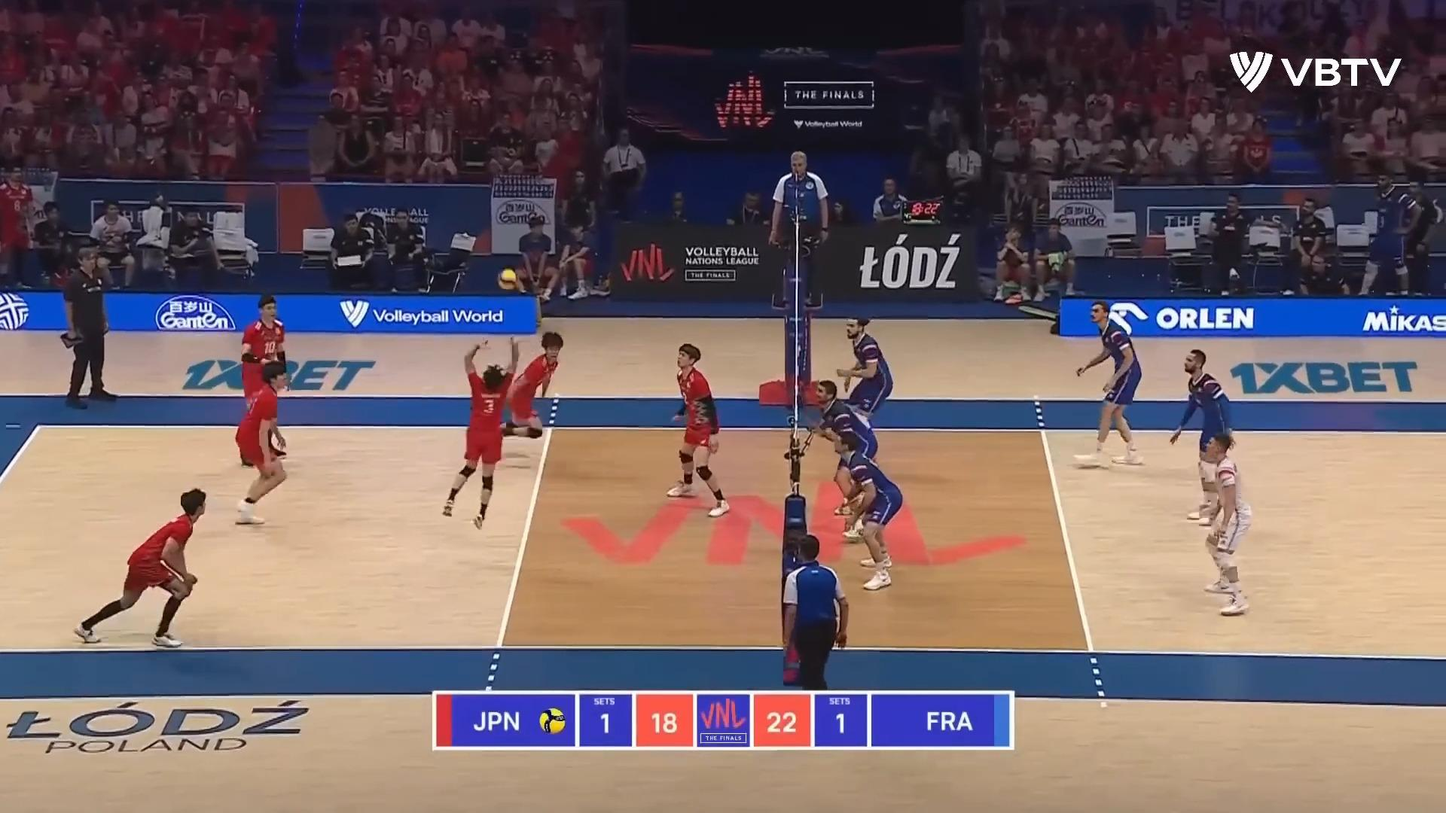ball: (495, 267, 520, 289)
